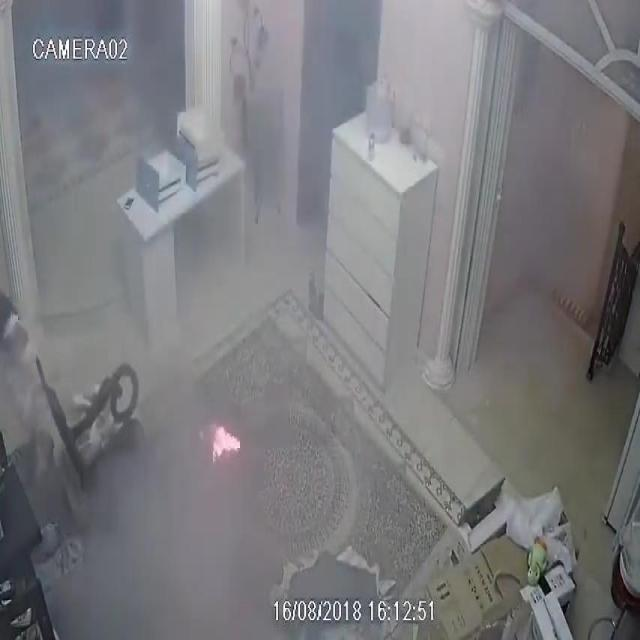fire: (212, 426, 241, 464)
